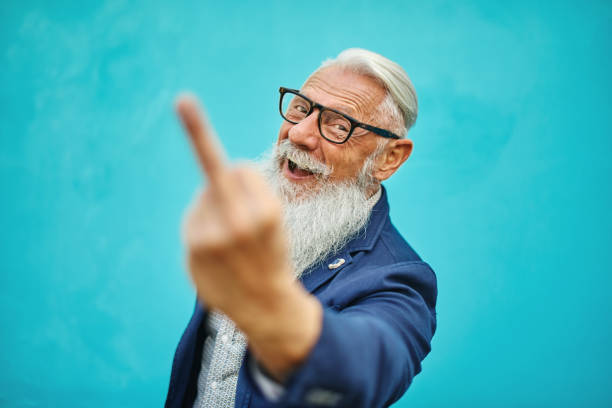insulting_gesture: (176, 92, 290, 293)
